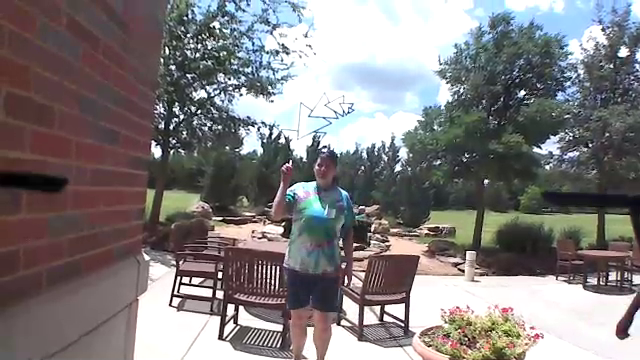up: (279, 153, 297, 184)
